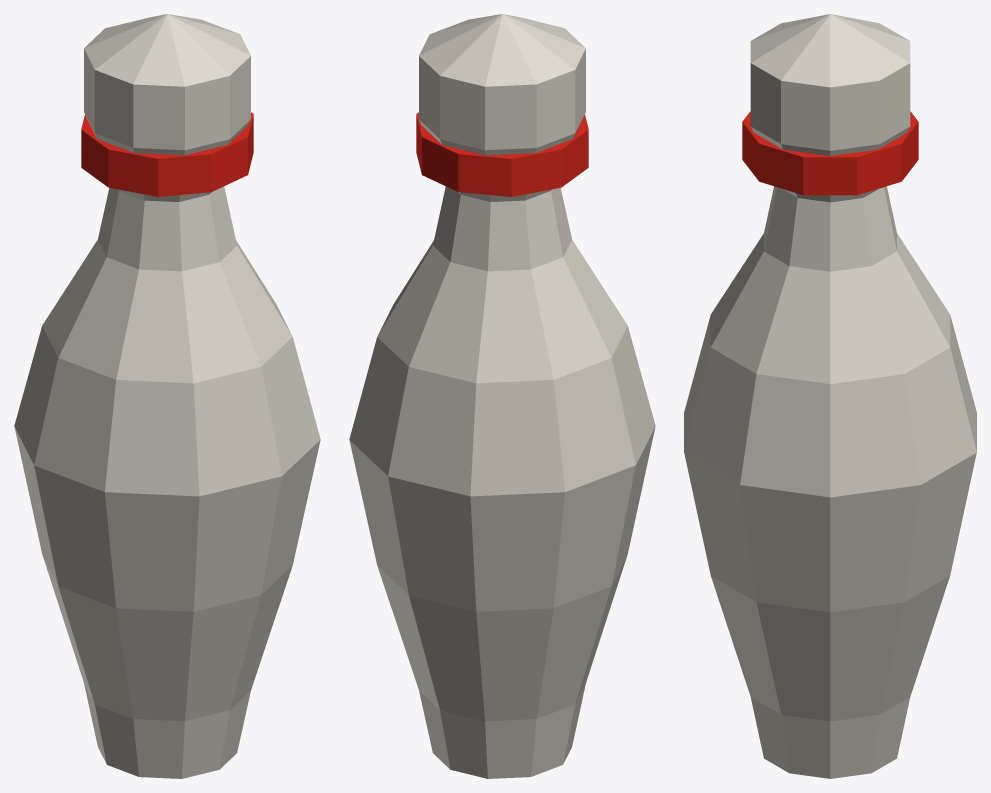
File: bowling_pin.glb
3 renders of one model, left to right at view 1: azimuth 30°, elevation 25°; view 2: azimuth 150°, elevation 25°; view 3: azimuth 270°, elevation 25°, orthographic.
Parts seen in each view (by area): view 1: bowling_pin; view 2: bowling_pin; view 3: bowling_pin.
Part boxes in pixels (left/top/right/bottom): bowling_pin: left=14, top=14, right=320, bottom=778; bowling_pin: left=349, top=14, right=655, bottom=778; bowling_pin: left=684, top=14, right=976, bottom=778.
Size of the model in its own units: 0.22 by 0.58 by 0.2092.
